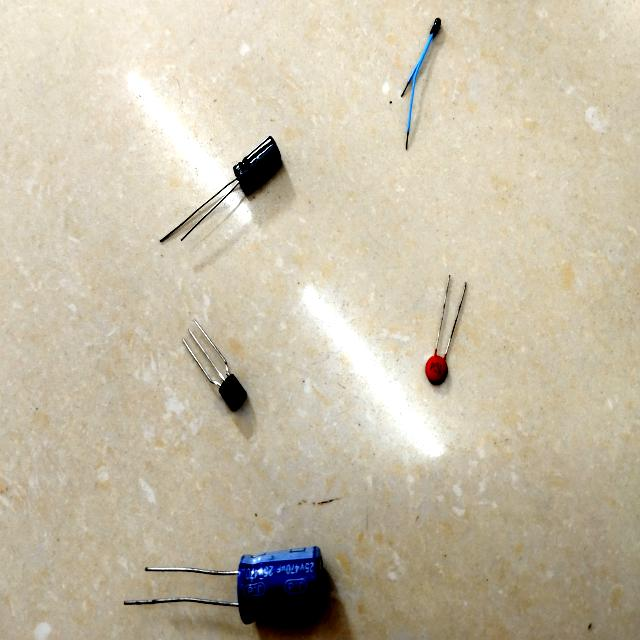capacitor: (237, 550, 332, 629), (234, 139, 283, 198), (425, 355, 448, 386)
